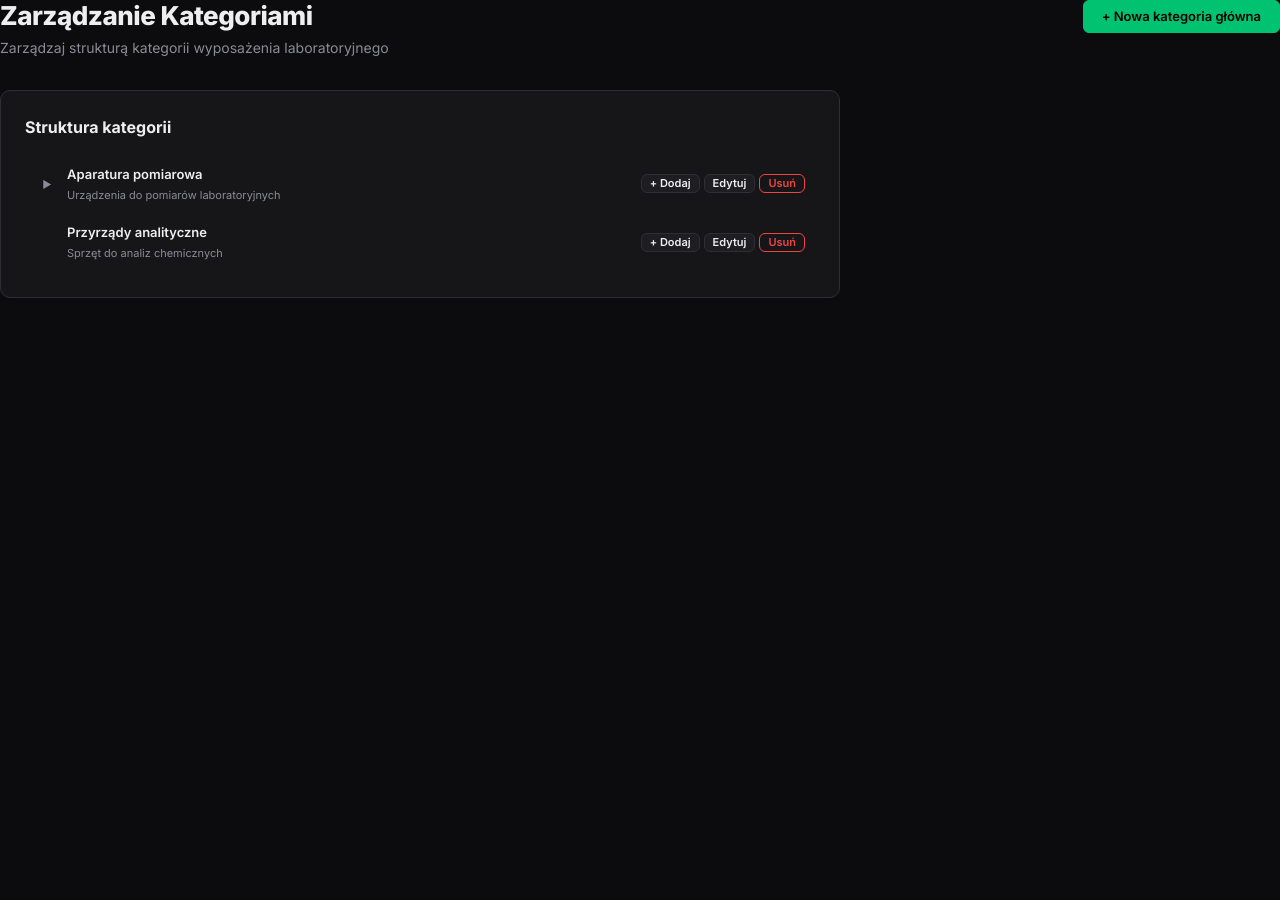
Test: CategoriesPage › Delete category › should open delete confirm when "Delete" clicked
Step 1. Click the button "Usuń" in the row of "Urządzenia do pomiarów laboratoryjnych" → (782, 184), box top-left (759, 174), bottom-right (805, 194)
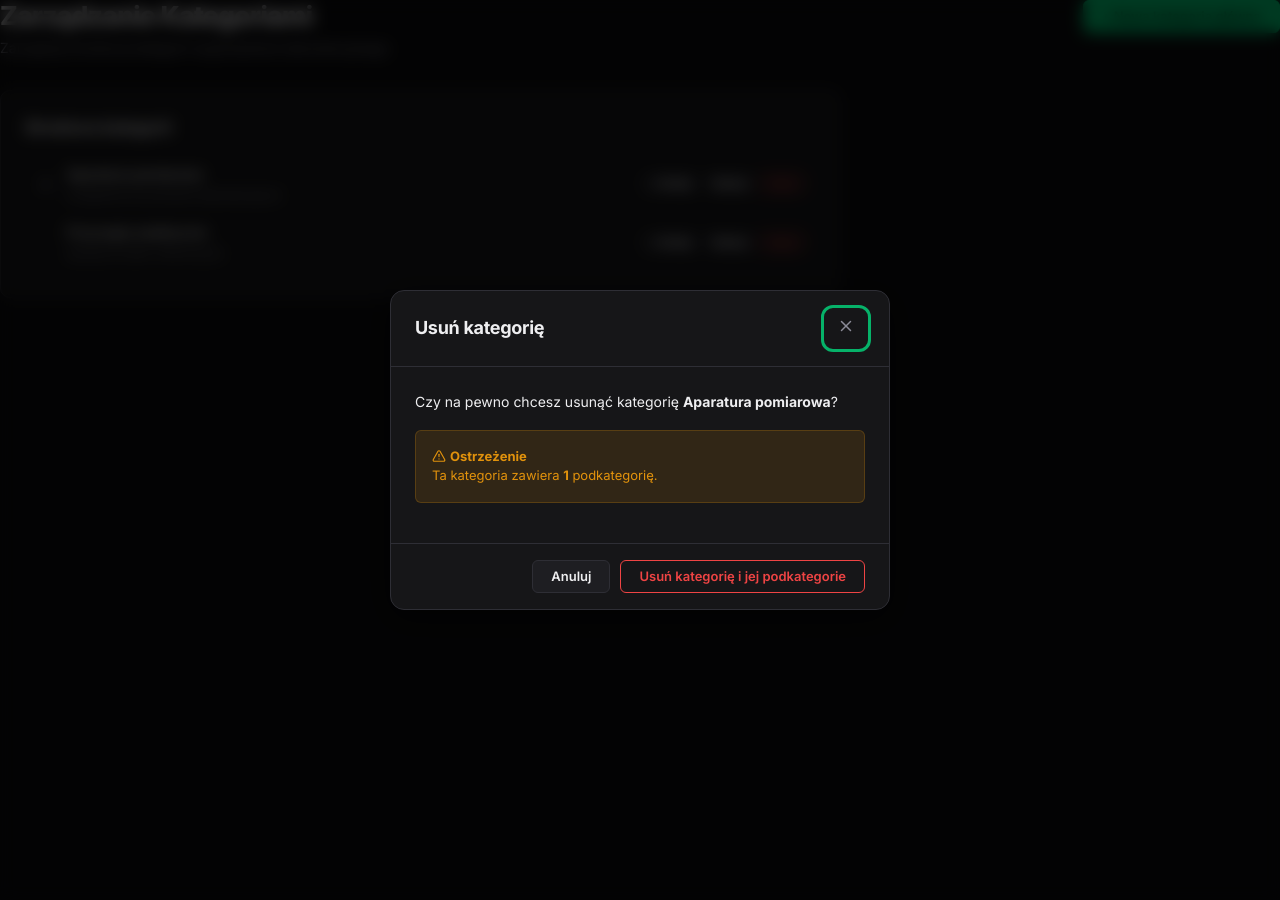
Check: the heading "Usuń kategorię" is shown, box top-left (415, 314), bottom-right (544, 343)
